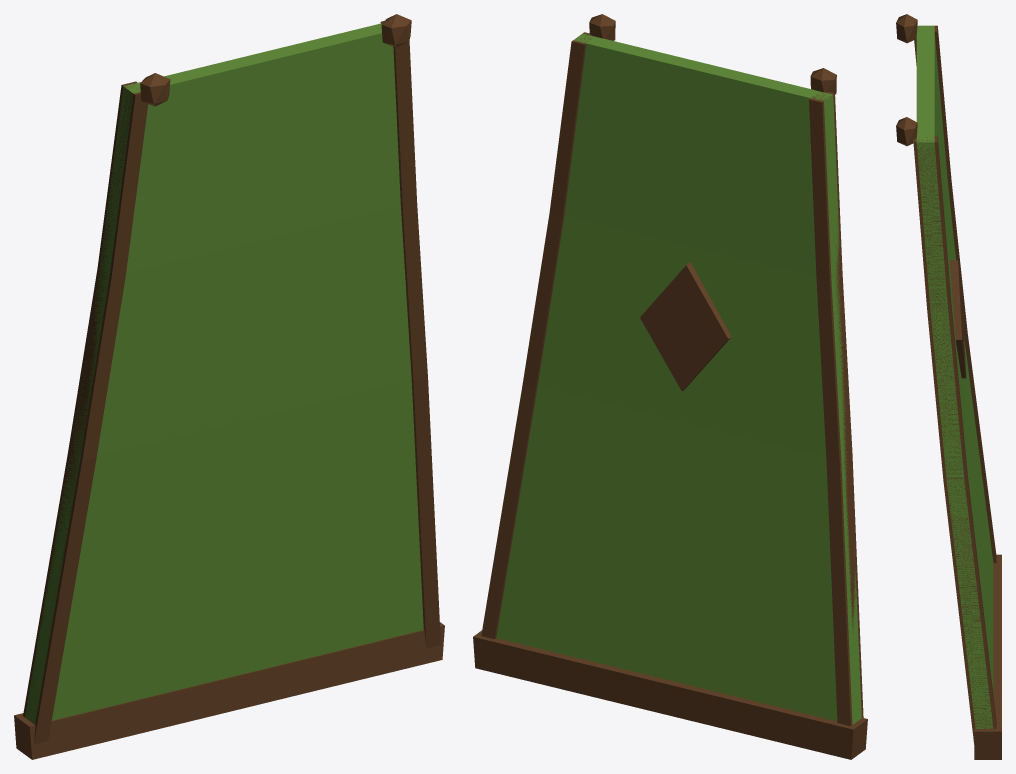
The model's file is gear_cape_woodcutting.glb.
3 views of the same model, side by side, from view 1: azimuth 30°, elevation 25°; view 2: azimuth 150°, elevation 25°; view 3: azimuth 270°, elevation 25° (orthographic). The views are drawn at different scales.
Visible parts, largest first — view 1: gear_cape_woodcutting; view 2: gear_cape_woodcutting; view 3: gear_cape_woodcutting.
Part boxes in pixels (box(x1,y1,x2,y2)): gear_cape_woodcutting: box(14, 14, 444, 759); gear_cape_woodcutting: box(473, 14, 867, 759); gear_cape_woodcutting: box(896, 14, 1001, 759).
Bounding box in the file's own units: 0.516 × 0.825 × 0.1304.
